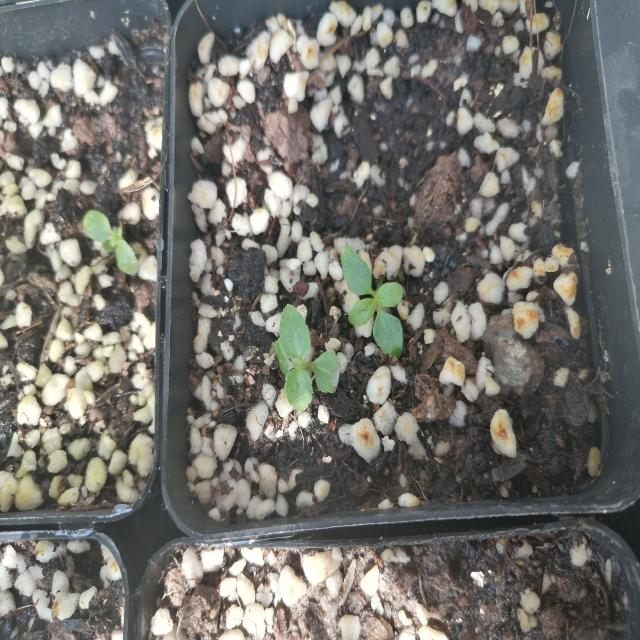billygoat_weed: (258, 294, 349, 415), (329, 229, 409, 363)
